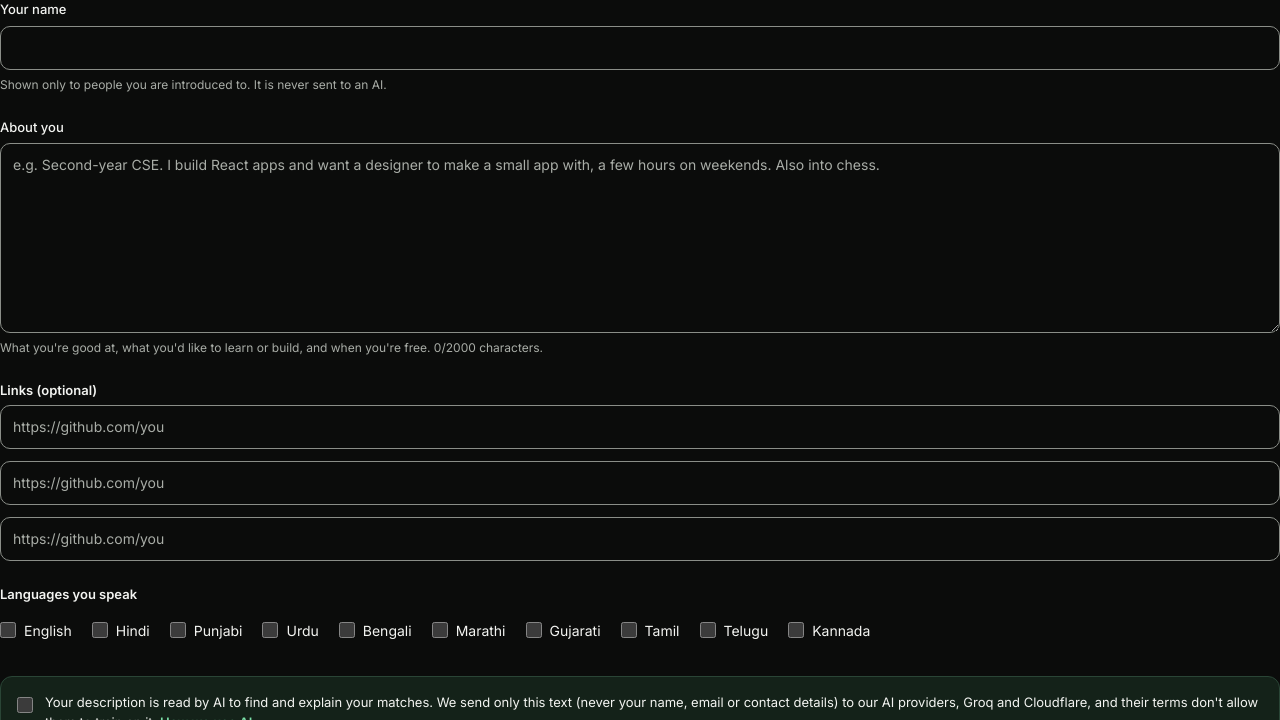
Test: ProfileForm › shows the AI consent line and requires it on the first save
Type "Ananya" into the field labelled "Your name" at point(640, 48), box [0,26,1279,70]
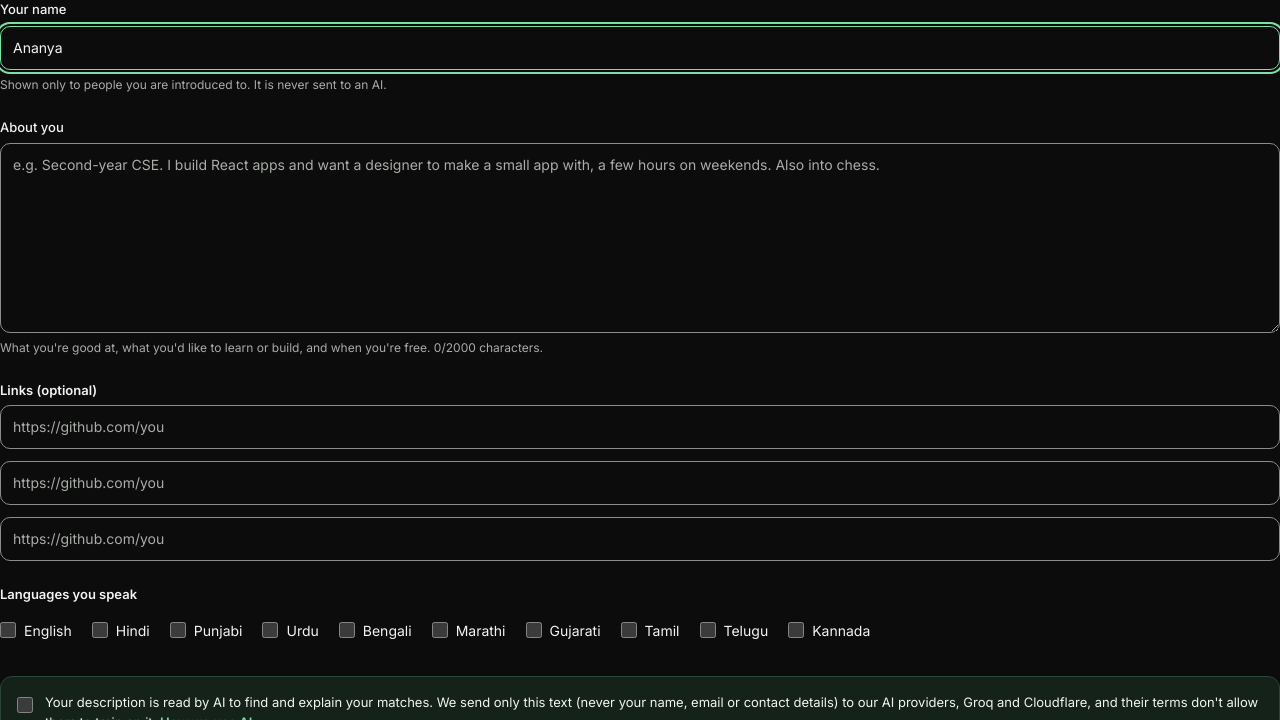
Type "I build React apps and want a designer for a small app, weekends." into the text box labelled "About you" at point(640, 238), box [0,143,1279,333]
(page scrolled)
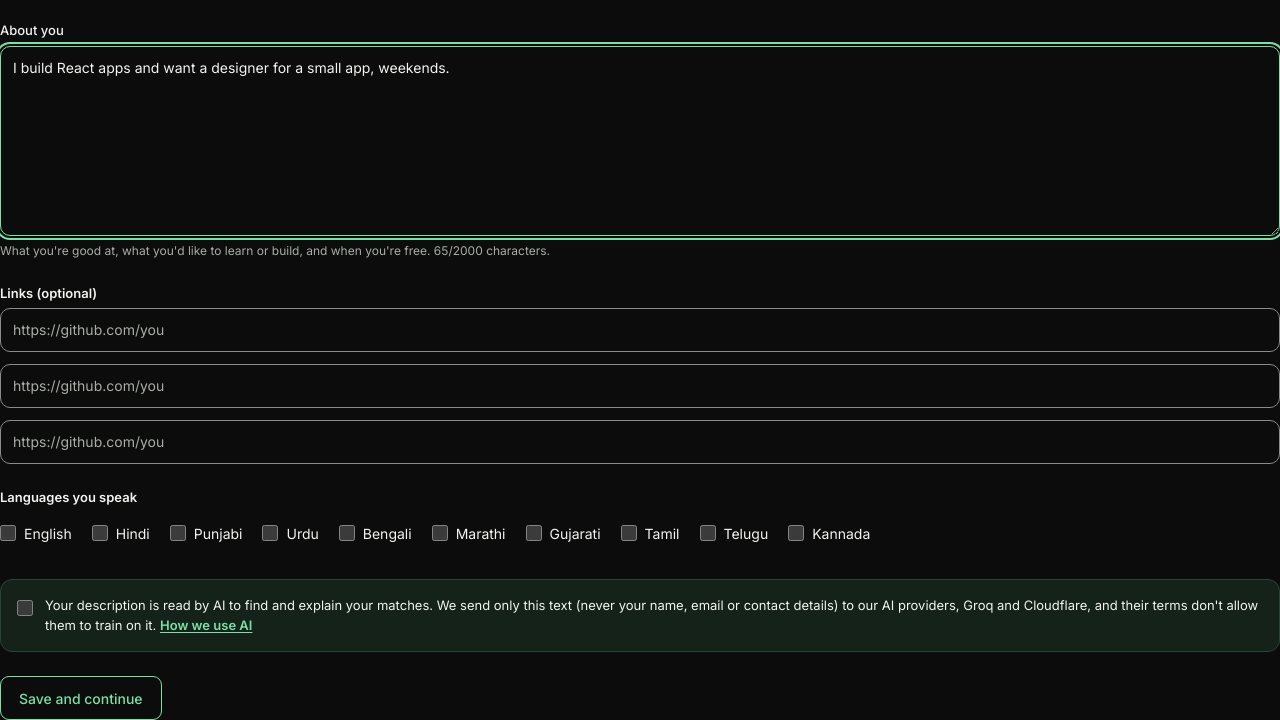
Click the button "Save and continue" at point(81, 698), box [0,676,162,719]
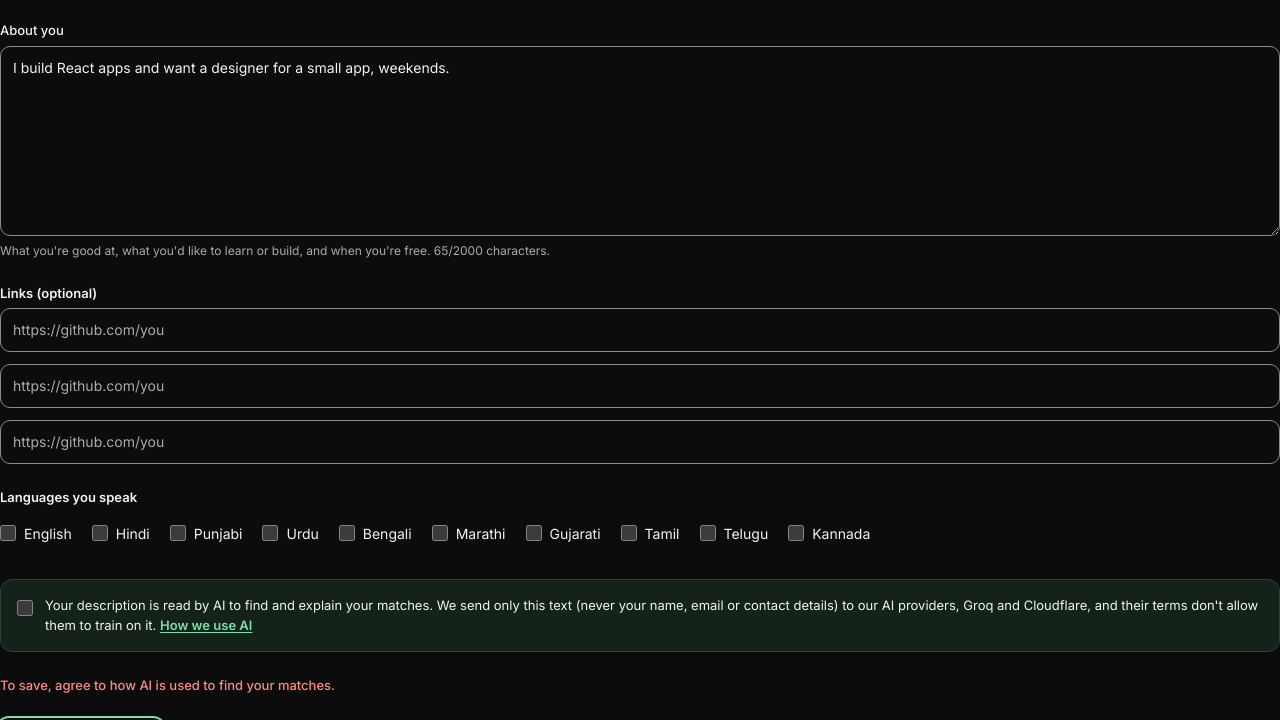
Expected: the message shows "agree to how AI is used", [0,677,335,693]
